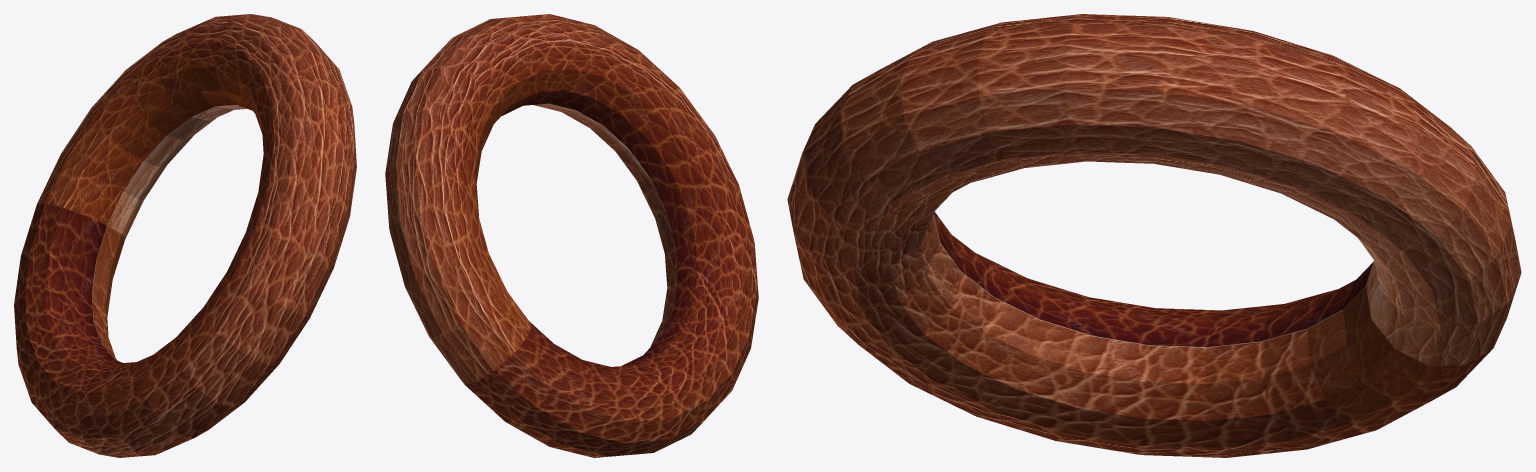
The picture shows the model from 3 angles, left to right: view 1: azimuth 30°, elevation 25°; view 2: azimuth 150°, elevation 25°; view 3: azimuth 270°, elevation 25°; orthographic projection. The views are drawn at different scales.
Visible parts, largest first — view 1: Torus; view 2: Torus; view 3: Torus.
Boxes of the visible parts, box(x1,y1,x2,y2) form: Torus: box(14, 14, 356, 457); Torus: box(385, 14, 758, 457); Torus: box(787, 14, 1521, 457).
Bounding box in the file's own units: 0.2465 × 0.3164 × 0.3702.
